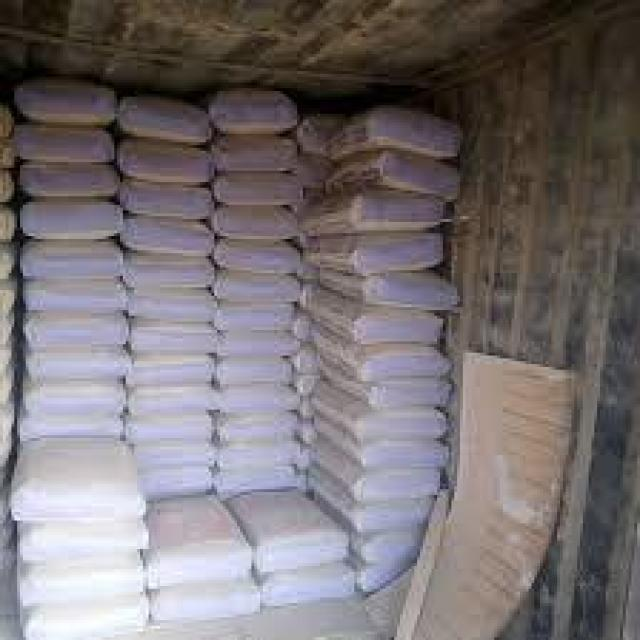gunny_bag: (17, 439, 145, 518), (238, 487, 351, 571), (155, 492, 251, 588), (310, 389, 447, 447), (312, 446, 439, 505), (313, 331, 452, 381), (319, 149, 457, 197), (310, 301, 443, 348), (326, 115, 454, 159), (316, 269, 457, 306), (27, 520, 138, 567), (299, 194, 447, 228), (25, 564, 131, 610), (40, 596, 144, 639), (123, 176, 215, 224), (156, 575, 254, 620), (119, 92, 208, 141), (310, 236, 444, 268), (18, 117, 114, 161), (121, 137, 208, 182), (25, 313, 127, 349), (25, 202, 119, 241), (22, 248, 123, 283), (27, 283, 128, 318), (25, 80, 109, 122), (28, 380, 117, 419), (24, 164, 118, 199), (123, 219, 213, 254), (126, 255, 212, 291), (219, 463, 299, 501), (127, 413, 212, 447), (215, 271, 301, 304), (30, 350, 129, 378), (219, 410, 295, 446), (135, 322, 213, 357), (216, 207, 292, 240), (220, 175, 296, 207), (216, 385, 297, 414), (222, 138, 295, 169), (133, 385, 211, 414), (134, 357, 211, 386), (217, 330, 293, 359), (212, 97, 293, 124), (132, 293, 214, 319), (221, 243, 295, 271), (218, 357, 289, 386), (222, 304, 292, 333), (147, 468, 211, 496)
